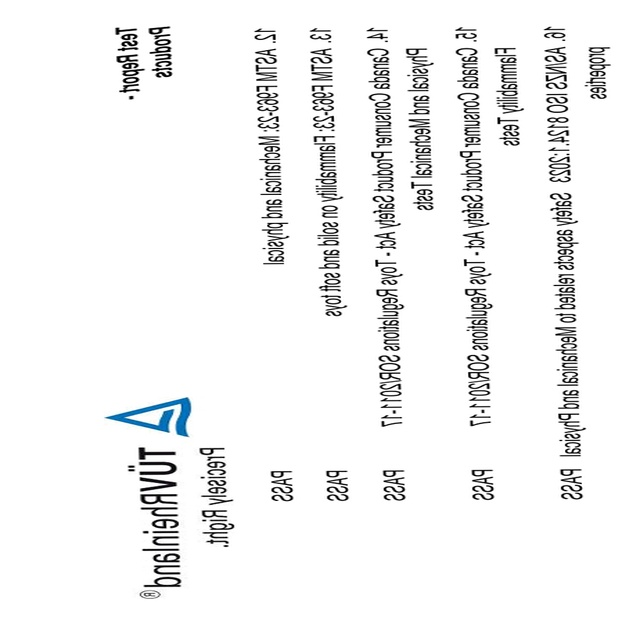tuv_rheinland: (103, 395, 195, 605)
